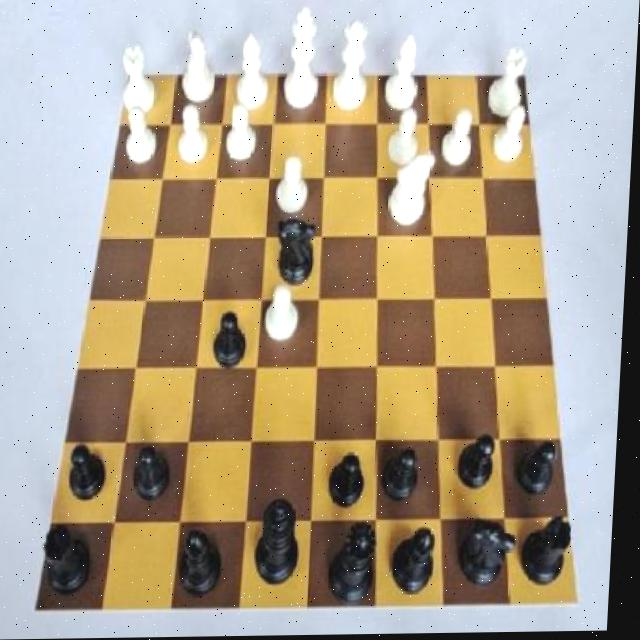bishop: (388, 521, 446, 606), (178, 520, 236, 605)
black-bishop: (259, 496, 309, 597)
black-king: (458, 511, 527, 597), (272, 213, 322, 293)
black-knight: (511, 436, 565, 512), (69, 440, 118, 513), (327, 449, 377, 520), (132, 439, 181, 511), (456, 426, 504, 499), (384, 441, 430, 515), (211, 309, 258, 380)
black-pawn: (335, 521, 385, 613)
black-queen: (44, 520, 102, 608), (521, 516, 582, 598)
black-rook: (226, 31, 276, 120), (382, 32, 426, 121)
white-bishop: (281, 7, 324, 118)
white-king: (387, 149, 438, 233), (177, 27, 222, 120)
white-knight: (486, 104, 534, 179), (121, 98, 167, 170), (263, 281, 310, 351), (223, 95, 264, 166), (436, 105, 477, 175), (278, 147, 315, 224), (382, 107, 426, 171), (174, 100, 211, 170)
white-pawn: (331, 19, 378, 119)
white-queen: (483, 46, 533, 124), (119, 38, 160, 120)
